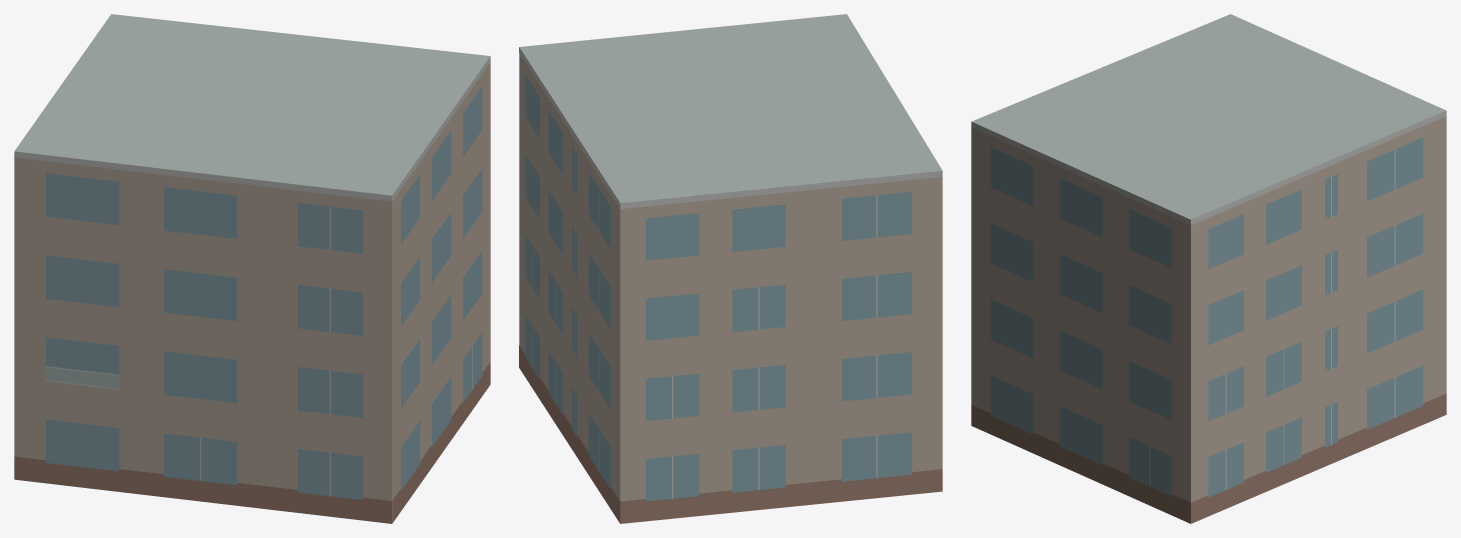
The model's file is survey-upis-32629235.glb.
The picture shows the model from 3 angles, left to right: view 1: azimuth 30°, elevation 25°; view 2: azimuth 150°, elevation 25°; view 3: azimuth 270°, elevation 25°; orthographic projection. The views are drawn at different scales.
Visible parts, largest first — view 1: survey-upis-32629235.tmp; view 2: survey-upis-32629235.tmp; view 3: survey-upis-32629235.tmp.
Part boxes in pixels (x1,y1,x2,y2): survey-upis-32629235.tmp: (14,14,490,523); survey-upis-32629235.tmp: (519,14,942,523); survey-upis-32629235.tmp: (971,14,1446,523).
Size of the model in its own units: 19.15 by 13.2 by 18.69.
